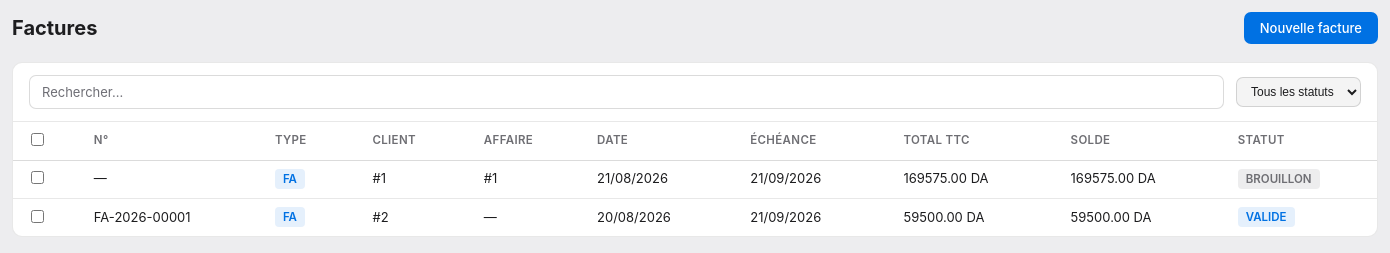
Test case: R15 - Liste Factures › filtre les factures par statut
Expected: the text "FA-2026-00001" is shown, x1=80 y1=198 x2=261 y2=236
Select "VALIDE" in the dropdown at (1298, 92), box x1=1236 y1=77 x2=1361 y2=107
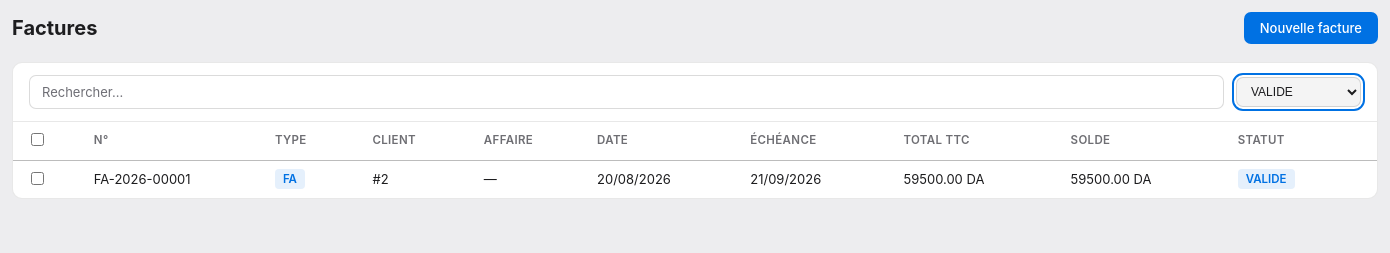
Expected: the text "FA-2026-00001" is shown, x1=80 y1=160 x2=261 y2=198
Expected: the text "BROUILLON" is gone
